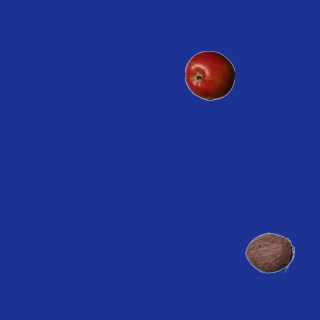Apple Braeburn: (184, 50, 234, 100)
Cocos: (244, 227, 294, 277)
